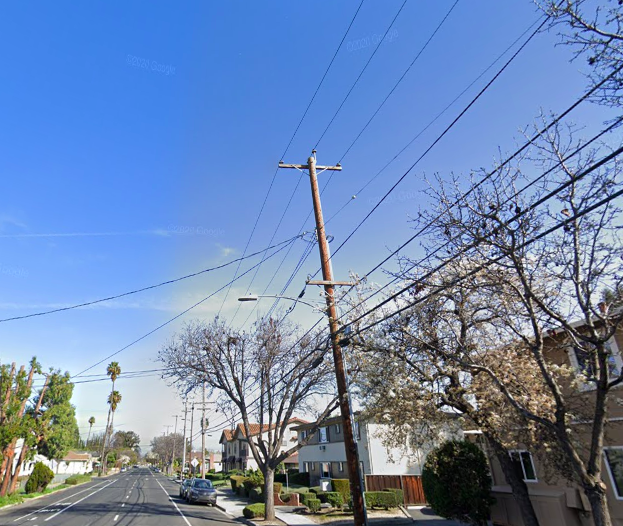utility_pole: (274, 143, 348, 190)
